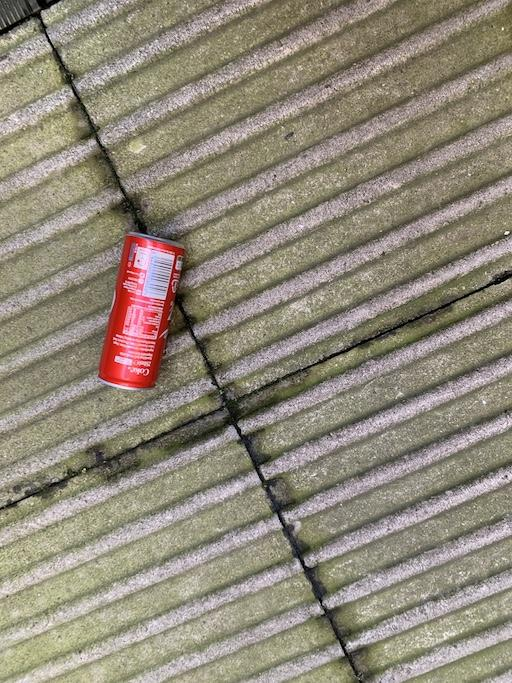Aluminum can: (75, 229, 216, 420)
